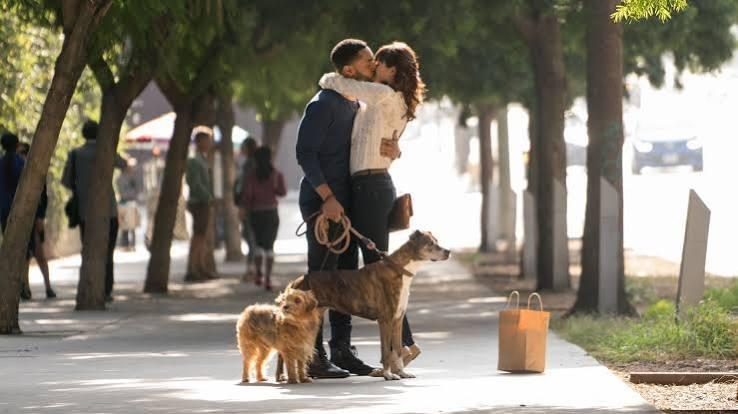adult_dog: (276, 229, 451, 380), (236, 276, 322, 385)
